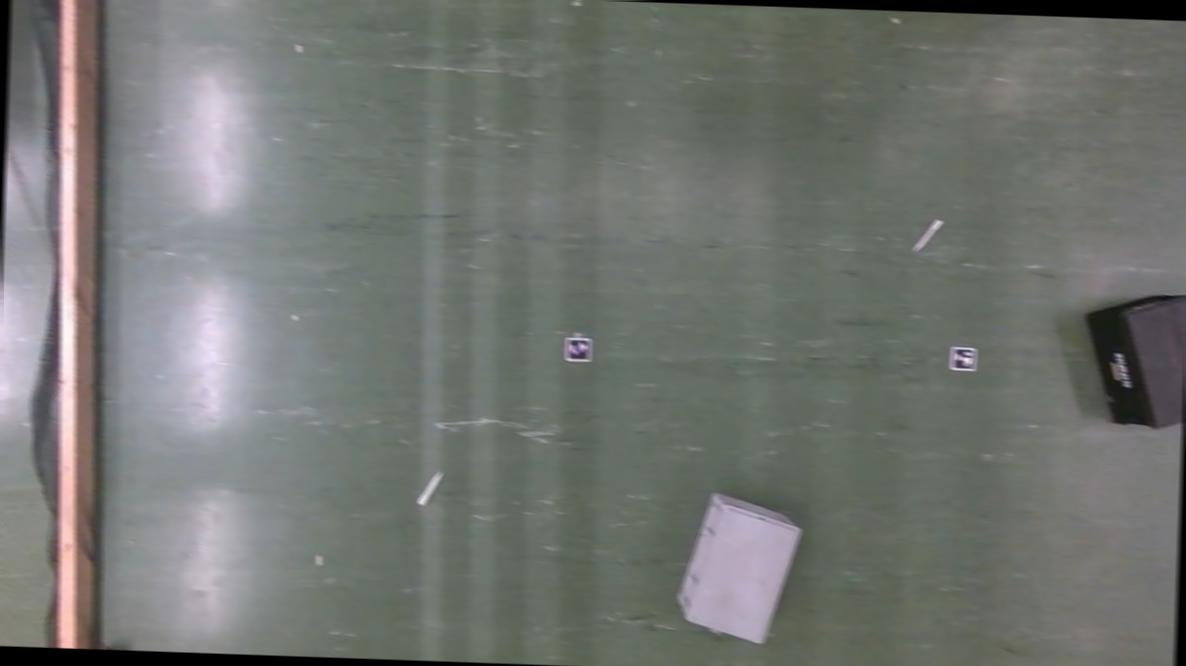probes: (917, 220, 946, 254), (420, 470, 444, 506)
rako: (676, 488, 802, 644), (1080, 288, 1186, 428)
